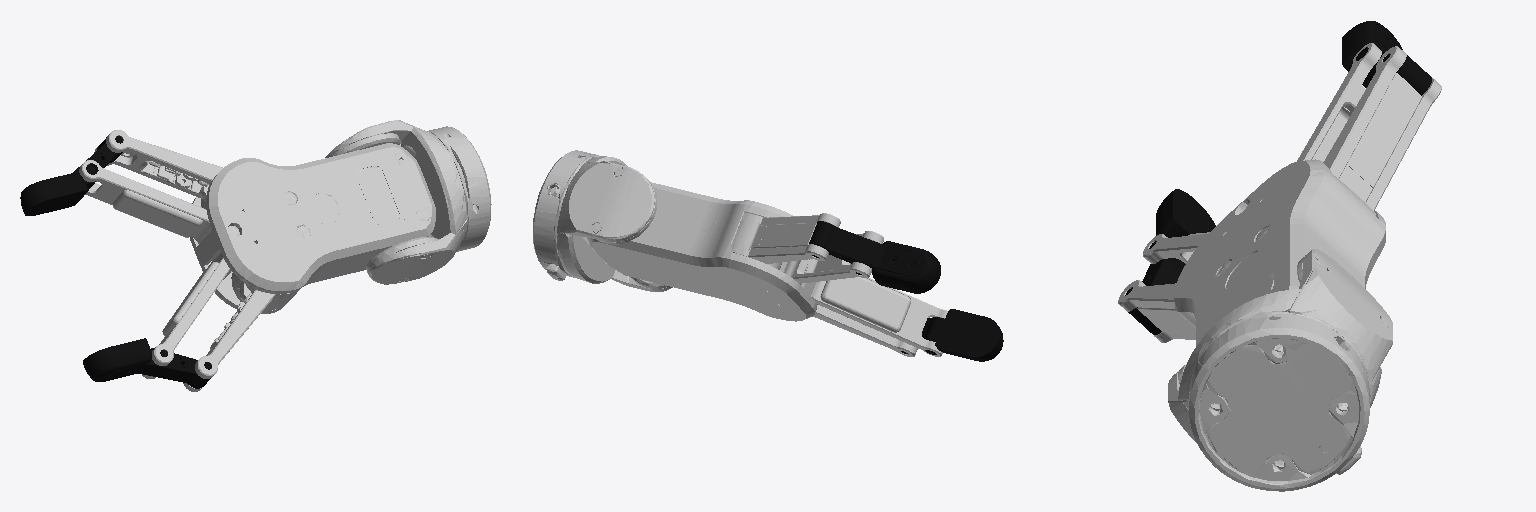
robot.urdf — panda:
<?xml version="1.0" ?>
<robot name="panda" xmlns:xacro="http://www.ros.org/wiki/xacro">
<material name="silver_default">
    <color rgba="0.700 0.700 0.700 1.000"/>
  </material>
  <material name="blue_default">
    <color rgba="0.700 0.700 0.800 1.000"/>
  </material>
  <material name="dark_default">
    <color rgba="0.400 0.400 0.400 1.000"/>
  </material>
  <material name="green_default">
    <color rgba="0.700 0.800 0.700 1.000"/>
  </material>
  <link name="panda_link0">
    <visual>
      <geometry>
        <mesh filename="meshes/visual/link0.dae"/>
      </geometry>
    </visual>
    <collision>
      <geometry>
        <mesh filename="meshes/collision/link0.obj"/>
      </geometry>
    </collision>
    <inertial>
      <!-- Estimated guesses from CAD -->
      <origin rpy="0 0 0" xyz="-0.041018 -0.00014 0.049974"/>
      <mass value="0.629769"/>  
      <inertia ixx="0.00315" ixy="8.2904e-7" ixz="0.0015" iyy="0.00388" iyz="8.2299e-6" izz="0.004285"/>
    </inertial>
  </link>
  <link name="panda_link1">
    <visual>
      <geometry>
        <mesh filename="meshes/visual/link1.dae"/>
      </geometry>
    </visual>
    <collision>
      <geometry>
        <mesh filename="meshes/collision/link1.obj"/>
      </geometry>
    </collision>
    <inertial>
      <origin rpy="0 0 0" xyz="0.003875 0.002081 -0.04762"/>
      <mass value="4.970684"/>
      <inertia ixx="0.70337" ixy="-0.00013900" ixz="0.0067720" iyy="0.70661" iyz="0.019169" izz="0.0091170"/>
    </inertial>
  </link>
  <joint name="panda_joint1" type="revolute">
    <safety_controller k_position="100.0" k_velocity="40.0" soft_lower_limit="-2.8973" soft_upper_limit="2.8973"/>
    <origin rpy="0 0 0" xyz="0 0 0.333"/>
    <parent link="panda_link0"/>
    <child link="panda_link1"/>
    <axis xyz="0 0 1"/>
    <dynamics damping="10.0"/>
    <limit effort="87" lower="-2.8973" upper="2.8973" velocity="2.1750"/>
  </joint>
  <link name="panda_link2">
    <visual>
      <geometry>
        <mesh filename="meshes/visual/link2.dae"/>
      </geometry>
    </visual>
    <collision>
      <geometry>
        <mesh filename="meshes/collision/link2.obj"/>
      </geometry>
    </collision>
    <inertial>
      <origin rpy="0 0 0" xyz=" -0.003141 -0.02872  0.003495"/>
      <mass value="0.646926"/>
      <inertia ixx="0.0079620" ixy="-3.9250e-3" ixz="1.0254e-02" iyy="2.8110e-02" iyz="7.0400e-04" izz="2.5995e-02"/>
    </inertial>
  </link>
  <joint name="panda_joint2" type="revolute">
    <safety_controller k_position="100.0" k_velocity="40.0" soft_lower_limit="-1.7628" soft_upper_limit="1.7628"/>
    <origin rpy="-1.57079632679 0 0" xyz="0 0 0"/>
    <parent link="panda_link1"/>
    <child link="panda_link2"/>
    <axis xyz="0 0 1"/>
    <dynamics damping="10.0"/>
    <limit effort="87" lower="-1.7628" upper="1.7628" velocity="2.1750"/>
  </joint>
  <link name="panda_link3">
    <visual>
      <geometry>
        <mesh filename="meshes/visual/link3.dae"/>
      </geometry>
    </visual>
    <collision>
      <geometry>
        <mesh filename="meshes/collision/link3.obj"/>
      </geometry>
    </collision>
    <inertial>
      <origin rpy="0 0 0" xyz="2.7518e-02 3.9252e-02 -6.6502e-02"/>
      <mass value="3.228604"/>
      <inertia ixx="3.7242e-02" ixy="-4.7610e-03" ixz="-1.1396e-02" iyy="3.6155e-02" iyz="-1.2805e-02" izz="1.0830e-02"/>
    </inertial>
  </link>
  <joint name="panda_joint3" type="revolute">
    <safety_controller k_position="100.0" k_velocity="40.0" soft_lower_limit="-2.8973" soft_upper_limit="2.8973"/>
    <origin rpy="1.57079632679 0 0" xyz="0 -0.316 0"/>
    <parent link="panda_link2"/>
    <child link="panda_link3"/>
    <axis xyz="0 0 1"/>
    <dynamics damping="10.0"/>
    <limit effort="87" lower="-2.8973" upper="2.8973" velocity="2.1750"/>
  </joint>
  <link name="panda_link4">
    <visual>
      <geometry>
        <mesh filename="meshes/visual/link4.dae"/>
      </geometry>
    </visual>
    <collision>
      <geometry>
        <mesh filename="meshes/collision/link4.obj"/>
      </geometry>
    </collision>
    <inertial>
      <origin rpy="0 0 0" xyz="-5.317e-02 1.04419e-01 2.7454e-02"/>
      <mass value="3.587895"/>
      <inertia ixx="2.5853e-02" ixy="7.7960e-03" ixz="-1.3320e-03" iyy="1.9552e-02" iyz="8.6410e-03" izz="2.8323e-02"/>
    </inertial>
  </link>
  <joint name="panda_joint4" type="revolute">
    <safety_controller k_position="100.0" k_velocity="40.0" soft_lower_limit="-3.0718" soft_upper_limit="-0.0698"/>
    <origin rpy="1.57079632679 0 0" xyz="0.0825 0 0"/>
    <parent link="panda_link3"/>
    <child link="panda_link4"/>
    <axis xyz="0 0 1"/>    
    <dynamics damping="10.0"/>
    <limit effort="87" lower="-3.0718" upper="-0.0698" velocity="2.1750"/>
    <!-- something is weird with this joint limit config
    <dynamics damping="10.0"/>
    <limit effort="87" lower="-3.0" upper="0.087" velocity="2.1750"/>  -->
  </joint>
  <link name="panda_link5">
    <visual>
      <geometry>
        <mesh filename="meshes/visual/link5.dae"/>
      </geometry>
    </visual>
    <collision>
      <geometry>
        <mesh filename="meshes/collision/link5.obj"/>
      </geometry>
    </collision>
    <inertial>
      <origin rpy="0 0 0" xyz="-1.1953e-02 4.1065e-02 -3.8437e-02"/>
      <mass value="1.225946"/>
      <inertia ixx="3.5549e-02" ixy="-2.1170e-03" ixz="-4.0370e-03" iyy="2.9474e-02" iyz="2.2900e-04" izz="8.6270e-03"/>
    </inertial>
  </link>
  <joint name="panda_joint5" type="revolute">
    <safety_controller k_position="100.0" k_velocity="40.0" soft_lower_limit="-2.8973" soft_upper_limit="2.8973"/>
    <origin rpy="-1.57079632679 0 0" xyz="-0.0825 0.384 0"/>
    <parent link="panda_link4"/>
    <child link="panda_link5"/>
    <axis xyz="0 0 1"/>
    <dynamics damping="10.0"/>
    <limit effort="12" lower="-2.8973" upper="2.8973" velocity="2.6100"/>
  </joint>
  <link name="panda_link6">
    <visual>
      <geometry>
        <mesh filename="meshes/visual/link6.dae"/>
      </geometry>
    </visual>
    <collision>
      <geometry>
        <mesh filename="meshes/collision/link6.obj"/>
      </geometry>
    </collision>
    <inertial>
      <origin rpy="0 0 0" xyz="6.0149e-02 -1.4117e-02 -1.0517e-02"/>
      <mass value="1.666555"/>
      <inertia ixx="1.9640e-03" ixy="1.0900e-04" ixz="-1.1580e-03" iyy="4.3540e-03" iyz="3.4100e-04" izz="5.4330e-03"/>
    </inertial>
  </link>
  <joint name="panda_joint6" type="revolute">
    <safety_controller k_position="100.0" k_velocity="40.0" soft_lower_limit="-0.0175" soft_upper_limit="3.7525"/>
    <origin rpy="1.57079632679 0 0" xyz="0 0 0"/>
    <parent link="panda_link5"/>
    <child link="panda_link6"/>
    <axis xyz="0 0 1"/>
    <dynamics damping="10.0"/>
    <limit effort="12" lower="-0.0175" upper="3.7525" velocity="2.6100"/>
    <!-- <dynamics damping="10.0"/>
    <limit effort="12" lower="-0.0873" upper="3.0" velocity="2.6100"/> -->
  </joint>
  <link name="panda_link7">
    <visual>
      <geometry>
        <mesh filename="meshes/visual/link7.dae"/>
      </geometry>
    </visual>
    <collision>
      <geometry>
        <mesh filename="meshes/collision/link7.obj"/>
      </geometry>
    </collision>
    <inertial>
      <origin rpy="0 0 0" xyz="1.0517e-02 -4.252e-03 6.1597e-02"/>
      <mass value="7.35522e-01"/>
      <inertia ixx="1.2516e-02" ixy="-4.2800e-04" ixz="-1.1960e-03" iyy="1.0027e-02" iyz="-7.4100e-04" izz="4.8150e-03"/>
    </inertial>
  </link>
  <joint name="panda_joint7" type="revolute">
    <safety_controller k_position="100.0" k_velocity="40.0" soft_lower_limit="-2.8973" soft_upper_limit="2.8973"/>
    <origin rpy="1.57079632679 0 0" xyz="0.088 0 0"/>
    <parent link="panda_link6"/>
    <child link="panda_link7"/>
    <axis xyz="0 0 1"/>
    <dynamics damping="10.0"/>
    <limit effort="12" lower="-2.8973" upper="2.8973" velocity="2.6100"/>
  </joint>
  <!--
  <link name="panda_link8"/>
  <joint name="panda_joint8" type="fixed">
    <origin rpy="0 0 0" xyz="0 0 0.107"/>
    <parent link="panda_link7"/>
    <child link="panda_link8"/>
    <axis xyz="0 0 0"/>
  </joint>
  Removing this joint seems to help with some stability things
  -->
  <joint name="panda_hand_joint" type="fixed">
    <!--
    <parent link="panda_link8"/>
    -->
    <parent link="panda_link7"/>
    <child link="panda_hand"/>
    <origin rpy="0 0 -0.785398163397" xyz="0 0 0.107"/>
    <!--
    <origin rpy="0 0 -0.785398163397" xyz="0 0 0"/>
    -->
  </joint>
 <link name="panda_hand">
    <inertial>
      <origin rpy="0 0 0" xyz="0.0 0.0 0.084"/>
      <mass value="1.25"/>
      <inertia ixx="5.785E-03" ixy="0." ixz="-9.0E-06" iyy="6.645E-03" iyz="-8.0E-06" izz="1.307E-03"/>
    </inertial>
    <visual>
      <origin rpy="0 0 0" xyz="0 0 0"/>
      <geometry>
        <mesh filename="meshes/rg6/visual/base_link.dae"/>
      </geometry>
      <material name="">
        <color rgba="0.8 0.8 0.8 1"/>
      </material>
    </visual>
    <collision>
      <origin rpy="0 0 0" xyz="0 0 0"/>
      <geometry>
        <mesh filename="meshes/rg6/collision/base_link.obj"/>
      </geometry>
    </collision>
  </link>
  <link name="left_outer_knuckle">
    <!-- <inertial>
      <origin rpy="0 0 0" xyz="0.0 0.0 0.0"/>
      <mass value="0.05"/>
      <inertia ixx="1.0E-03" ixy="1.0E-06" ixz="1.0E-06" iyy="1.0E-03" iyz="1.0E-06" izz="1.0E-03"/>
    </inertial> -->
    <visual>
      <origin rpy="0 0 0" xyz="0 0 0"/>
      <geometry>
        <mesh filename="meshes/rg6/visual/outer_knuckle.dae"/>
      </geometry>
      <material name="">
        <color rgba="0.8 0.8 0.8 1"/>
      </material>
    </visual>
    <collision>
      <origin rpy="0 0 0" xyz="0 0 0"/>
      <geometry>
        <mesh filename="meshes/rg6/collision/outer_knuckle_coacd.obj"/>
      </geometry>
    </collision>
  </link>
  <link name="left_inner_knuckle">
    <!-- <inertial>
      <origin rpy="0 0 0" xyz="0.0 0.0 0.0"/>
      <mass value="0.05"/>
      <inertia ixx="1.0E-03" ixy="1.0E-06" ixz="1.0E-06" iyy="1.0E-03" iyz="1.0E-06" izz="1.0E-03"/>
    </inertial> -->
    <visual>
      <origin rpy="0 0 0" xyz="0 0 0"/>
      <geometry>
        <mesh filename="meshes/rg6/visual/inner_knuckle.dae"/>
      </geometry>
      <material name="">
        <color rgba="0.8 0.8 0.8 1"/>
      </material>
    </visual>
    <collision>
      <origin rpy="0 0 0" xyz="0 0 0"/>
      <geometry>
        <mesh filename="meshes/rg6/collision/inner_knuckle_coacd.obj"/>
      </geometry>
    </collision>
  </link>
  <link name="panda_leftfinger">
    <!-- <inertial>
      <origin rpy="0 0 0" xyz="0.0 0.0 0.0"/>
      <mass value="0.05"/>
      <inertia ixx="1.0E-03" ixy="1.0E-06" ixz="1.0E-06" iyy="1.0E-03" iyz="1.0E-06" izz="1.0E-03"/>
    </inertial> -->
    <visual>
      <origin rpy="0 0 0" xyz="0 0 0"/>
      <geometry>
        <mesh filename="meshes/rg6/visual/inner_finger.dae"/>
      </geometry>
      <material name="">
        <color rgba="0.1 0.1 0.1 1"/>
      </material>
    </visual>
    <collision>
      <origin rpy="0 0 0" xyz="0 0 0"/>
      <geometry>
        <mesh filename="meshes/rg6/collision/inner_finger_coacd.obj"/>
      </geometry>
    </collision>
  </link>
  <link name="right_outer_knuckle">
    <!-- <inertial>
      <origin rpy="0 0 0" xyz="0.0 0.0 0.0"/>
      <mass value="0.05"/>
      <inertia ixx="1.0E-03" ixy="1.0E-06" ixz="1.0E-06" iyy="1.0E-03" iyz="1.0E-06" izz="1.0E-03"/>
    </inertial> -->
    <visual>
      <origin rpy="0 0 0" xyz="0 0 0"/>
      <geometry>
        <mesh filename="meshes/rg6/visual/outer_knuckle.dae"/>
      </geometry>
      <material name="">
        <color rgba="0.8 0.8 0.8 1"/>
      </material>
    </visual>
    <collision>
      <origin rpy="0 0 0" xyz="0 0 0"/>
      <geometry>
        <mesh filename="meshes/rg6/collision/outer_knuckle_coacd.obj"/>
      </geometry>
    </collision>
  </link>
  <link name="right_inner_knuckle">
    <!-- <inertial>
      <origin rpy="0 0 0" xyz="0.0 0.0 0.0"/>
      <mass value="0.05"/>
      <inertia ixx="1.0E-03" ixy="1.0E-06" ixz="1.0E-06" iyy="1.0E-03" iyz="1.0E-06" izz="1.0E-03"/>
    </inertial> -->
    <visual>
      <origin rpy="0 0 0" xyz="0 0 0"/>
      <geometry>
        <mesh filename="meshes/rg6/visual/inner_knuckle.dae"/>
      </geometry>
      <material name="">
        <color rgba="0.8 0.8 0.8 1"/>
      </material>
    </visual>
    <collision>
      <origin rpy="0 0 0" xyz="0 0 0"/>
      <geometry>
        <mesh filename="meshes/rg6/collision/inner_knuckle_coacd.obj"/>
      </geometry>
    </collision>
  </link>
  <link name="panda_rightfinger">
    <!-- <inertial>
      <origin rpy="0 0 0" xyz="0.0 0.0 0.0"/>
      <mass value="0.05"/>
      <inertia ixx="1.0E-03" ixy="1.0E-06" ixz="1.0E-06" iyy="1.0E-03" iyz="1.0E-06" izz="1.0E-03"/>
    </inertial> -->
    <visual>
      <origin rpy="0 0 0" xyz="0 0 0"/>
      <geometry>
        <mesh filename="meshes/rg6/visual/inner_finger.dae"/>
      </geometry>
      <material name="">
        <color rgba="0.1 0.1 0.1 1"/>
      </material>
    </visual>
    <collision>
      <origin rpy="0 0 0" xyz="0 0 0"/>
      <geometry>
        <mesh filename="meshes/rg6/collision/inner_finger_coacd.obj"/>
      </geometry>
    </collision>
  </link>
  <joint name="finger_joint" type="fixed">
    <origin rpy="0 0 0" xyz="0 -0.024112 0.136813"/>
    <parent link="panda_hand"/>
    <child link="left_outer_knuckle"/>
    <axis xyz="-1 0 0"/>
    <limit effort="1000" lower="-0.628319" upper="0.628319" velocity="2.0"/>
  </joint>
  <joint name="left_inner_knuckle_joint" type="fixed">
    <origin rpy="0 0 0.0" xyz="0 -0.01272 0.159500"/>
    <parent link="panda_hand"/>
    <child link="left_inner_knuckle"/>
    <axis xyz="1 0 0"/>
    <limit effort="1000" lower="-0.628319" upper="0.628319" velocity="2.0"/>
    <!-- <mimic joint="finger_joint" multiplier="-1" offset="0"/> -->
  </joint>
  <joint name="left_inner_finger_joint" type="fixed">
    <origin rpy="0 0 0" xyz="0 -0.047334999999999995 0.064495"/>
    <parent link="left_outer_knuckle"/>
    <child link="panda_leftfinger"/>
    <axis xyz="1 0 0"/>
    <limit effort="1000" lower="-0.872665" upper="0.872665" velocity="2.0"/>
    <!-- <mimic joint="finger_joint" multiplier="1" offset="0"/> -->
  </joint>
  <joint name="right_outer_knuckle_joint" type="fixed">
    <origin rpy="0 0 3.141592653589793" xyz="0 0.024112 0.136813"/>
    <parent link="panda_hand"/>
    <child link="right_outer_knuckle"/>
    <axis xyz="1 0 0"/>
    <limit effort="1000" lower="-0.628319" upper="0.628319" velocity="2.0"/>
    <!-- <mimic joint="finger_joint" multiplier="-1" offset="0"/> -->
  </joint>
  <joint name="right_inner_knuckle_joint" type="fixed">
    <origin rpy="0 0 -3.141592653589793" xyz="0 0.01272 0.159500"/>
    <parent link="panda_hand"/>
    <child link="right_inner_knuckle"/>
    <axis xyz="1 0 0"/>
    <limit effort="1000" lower="-0.628319" upper="0.628319" velocity="2.0"/>
    <!-- <mimic joint="finger_joint" multiplier="-1" offset="0"/> -->
  </joint>
  <joint name="right_inner_finger_joint" type="fixed">
    <origin rpy="0 0 0" xyz="0 -0.047334999999999995 0.064495"/>
    <parent link="right_outer_knuckle"/>
    <child link="panda_rightfinger"/>
    <axis xyz="1 0 0"/>
    <limit effort="1000" lower="-0.872665" upper="0.872665" velocity="2.0"/>
    <!-- <mimic joint="finger_joint" multiplier="1" offset="0"/> -->
  </joint>
    <link name="panda_tool"/>
  <joint name="panda_hand_tool_joint" type="fixed">
    <origin xyz="0 0 0.262" rpy="0 0 0" />
    <parent link="panda_hand" />
    <child link="panda_tool" />
  </joint>
</robot>

--- Facts derived from the render (not from the file) ---
Views: 3 orthographic renders of the robot side by side, from view 1: azimuth 30°, elevation 25°; view 2: azimuth 150°, elevation 25°; view 3: azimuth 270°, elevation 25°.
Model panda with 16 links and 15 joints (7 revolute, 8 fixed), rooted at panda_link0, posed joints at zero except 1 at the middle of their limits (panda_joint4 = -1.57).
Visible links, largest first — view 1: panda_hand, left_inner_knuckle, left_outer_knuckle, panda_rightfinger, right_outer_knuckle, panda_leftfinger, right_inner_knuckle; view 2: panda_hand, right_inner_knuckle, panda_leftfinger, left_outer_knuckle, panda_rightfinger, left_inner_knuckle, right_outer_knuckle; view 3: panda_hand, left_outer_knuckle, panda_rightfinger, left_inner_knuckle, right_outer_knuckle, panda_leftfinger, right_inner_knuckle.
Boxes of the visible links, <box> form: panda_hand: <box>190,120,491,313</box>; left_inner_knuckle: <box>79,160,211,243</box>; left_outer_knuckle: <box>94,130,222,208</box>; panda_rightfinger: <box>83,338,211,388</box>; right_outer_knuckle: <box>183,273,291,391</box>; panda_leftfinger: <box>20,136,122,215</box>; right_inner_knuckle: <box>142,253,231,378</box>; panda_hand: <box>533,150,816,321</box>; right_inner_knuckle: <box>811,277,947,356</box>; panda_leftfinger: <box>809,221,940,293</box>; left_outer_knuckle: <box>731,213,840,269</box>; panda_rightfinger: <box>901,309,1003,361</box>; left_inner_knuckle: <box>784,231,883,284</box>; right_outer_knuckle: <box>813,304,929,356</box>; panda_hand: <box>1168,159,1392,491</box>; left_outer_knuckle: <box>1323,46,1441,217</box>; panda_rightfinger: <box>1125,189,1215,334</box>; left_inner_knuckle: <box>1297,43,1381,161</box>; right_outer_knuckle: <box>1118,280,1195,342</box>; panda_leftfinger: <box>1342,21,1431,95</box>; right_inner_knuckle: <box>1143,232,1209,263</box>.
Size in the robot's own frame: 0.2676 by 0.1269 by 0.1269 metres.
Meshes: 12 distinct files referenced, 7 mesh visuals loaded (4 Collada DAE); not drawn: 8 (reference not matched to a file when rendering).